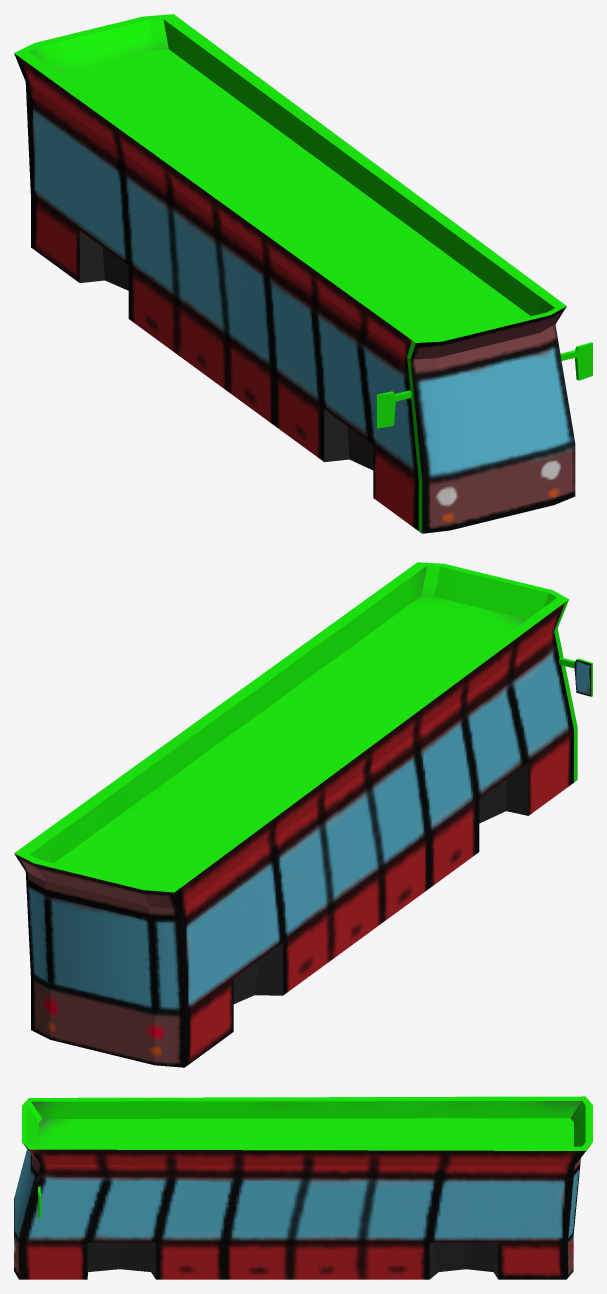
The model's file is RusseBuss.glb.
3 views of the same model, one above another, from view 1: azimuth 30°, elevation 25°; view 2: azimuth 150°, elevation 25°; view 3: azimuth 270°, elevation 25° (orthographic). The views are drawn at different scales.
Visible parts, largest first — view 1: RusseBuss; view 2: RusseBuss; view 3: RusseBuss.
Boxes of the visible parts, <box> form: RusseBuss: <box>14,14,592,533</box>; RusseBuss: <box>14,562,592,1067</box>; RusseBuss: <box>14,1096,592,1279</box>.
Size of the model in its own units: 33.78 by 27.69 by 112.
1 material, 1 textured.
